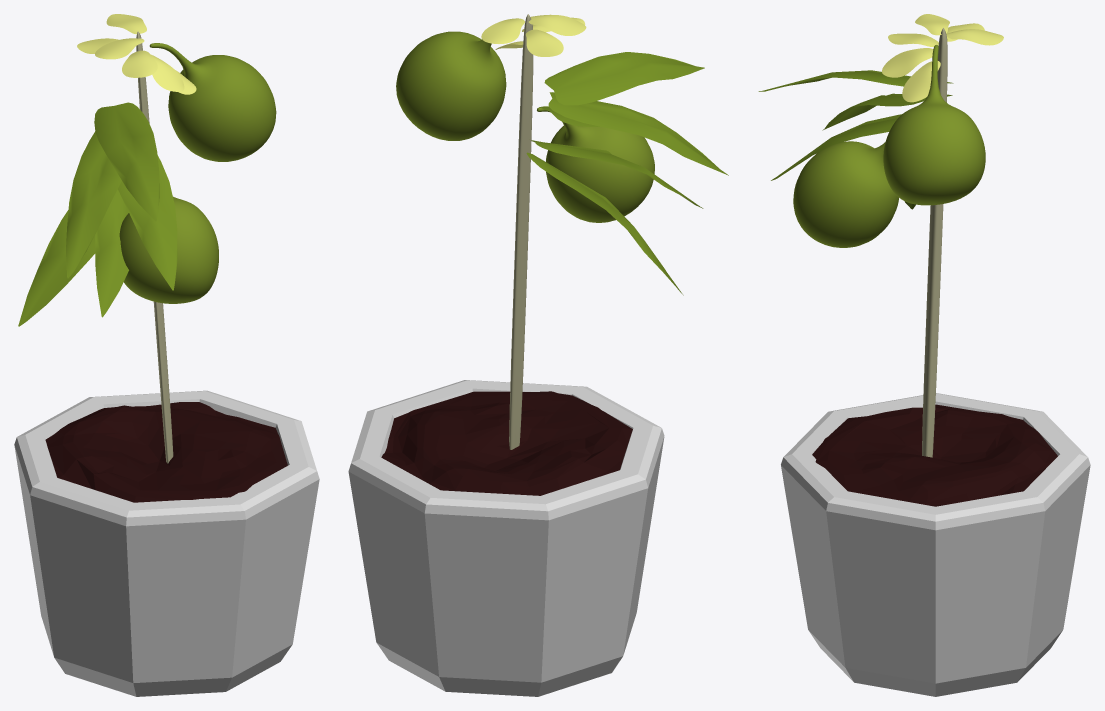
The model's file is bael.glb.
3 views of the same model, side by side, from view 1: azimuth 30°, elevation 25°; view 2: azimuth 150°, elevation 25°; view 3: azimuth 270°, elevation 25° (orthographic). The views are drawn at different scales.
Visible parts, largest first — view 1: bael; view 2: bael; view 3: bael.
Part boxes in pixels (x1,y1,x2,y2): bael: (14, 14, 319, 696); bael: (348, 14, 728, 696); bael: (758, 14, 1090, 696).
Size of the model in its own units: 1.51 by 3.05 by 1.49.
